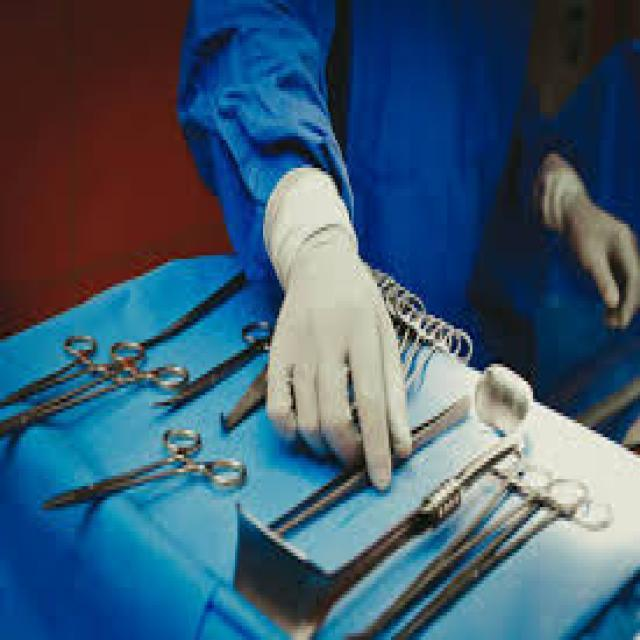tools_table: (1, 226, 572, 640)
